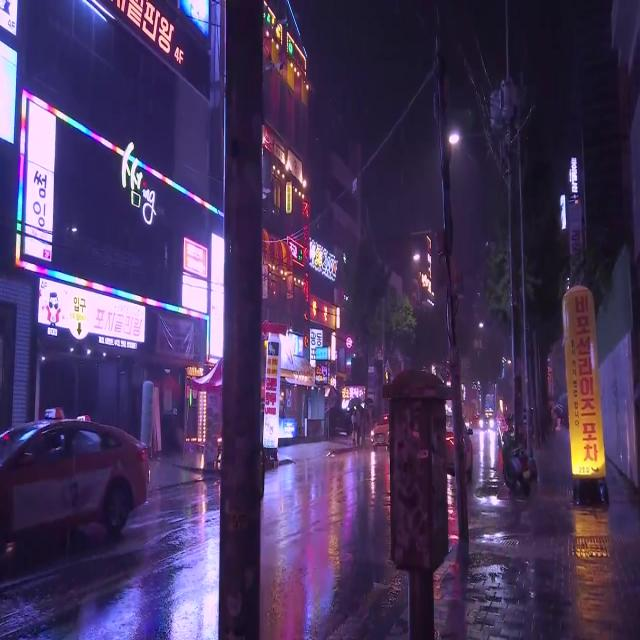Car: (5, 417, 146, 552)
